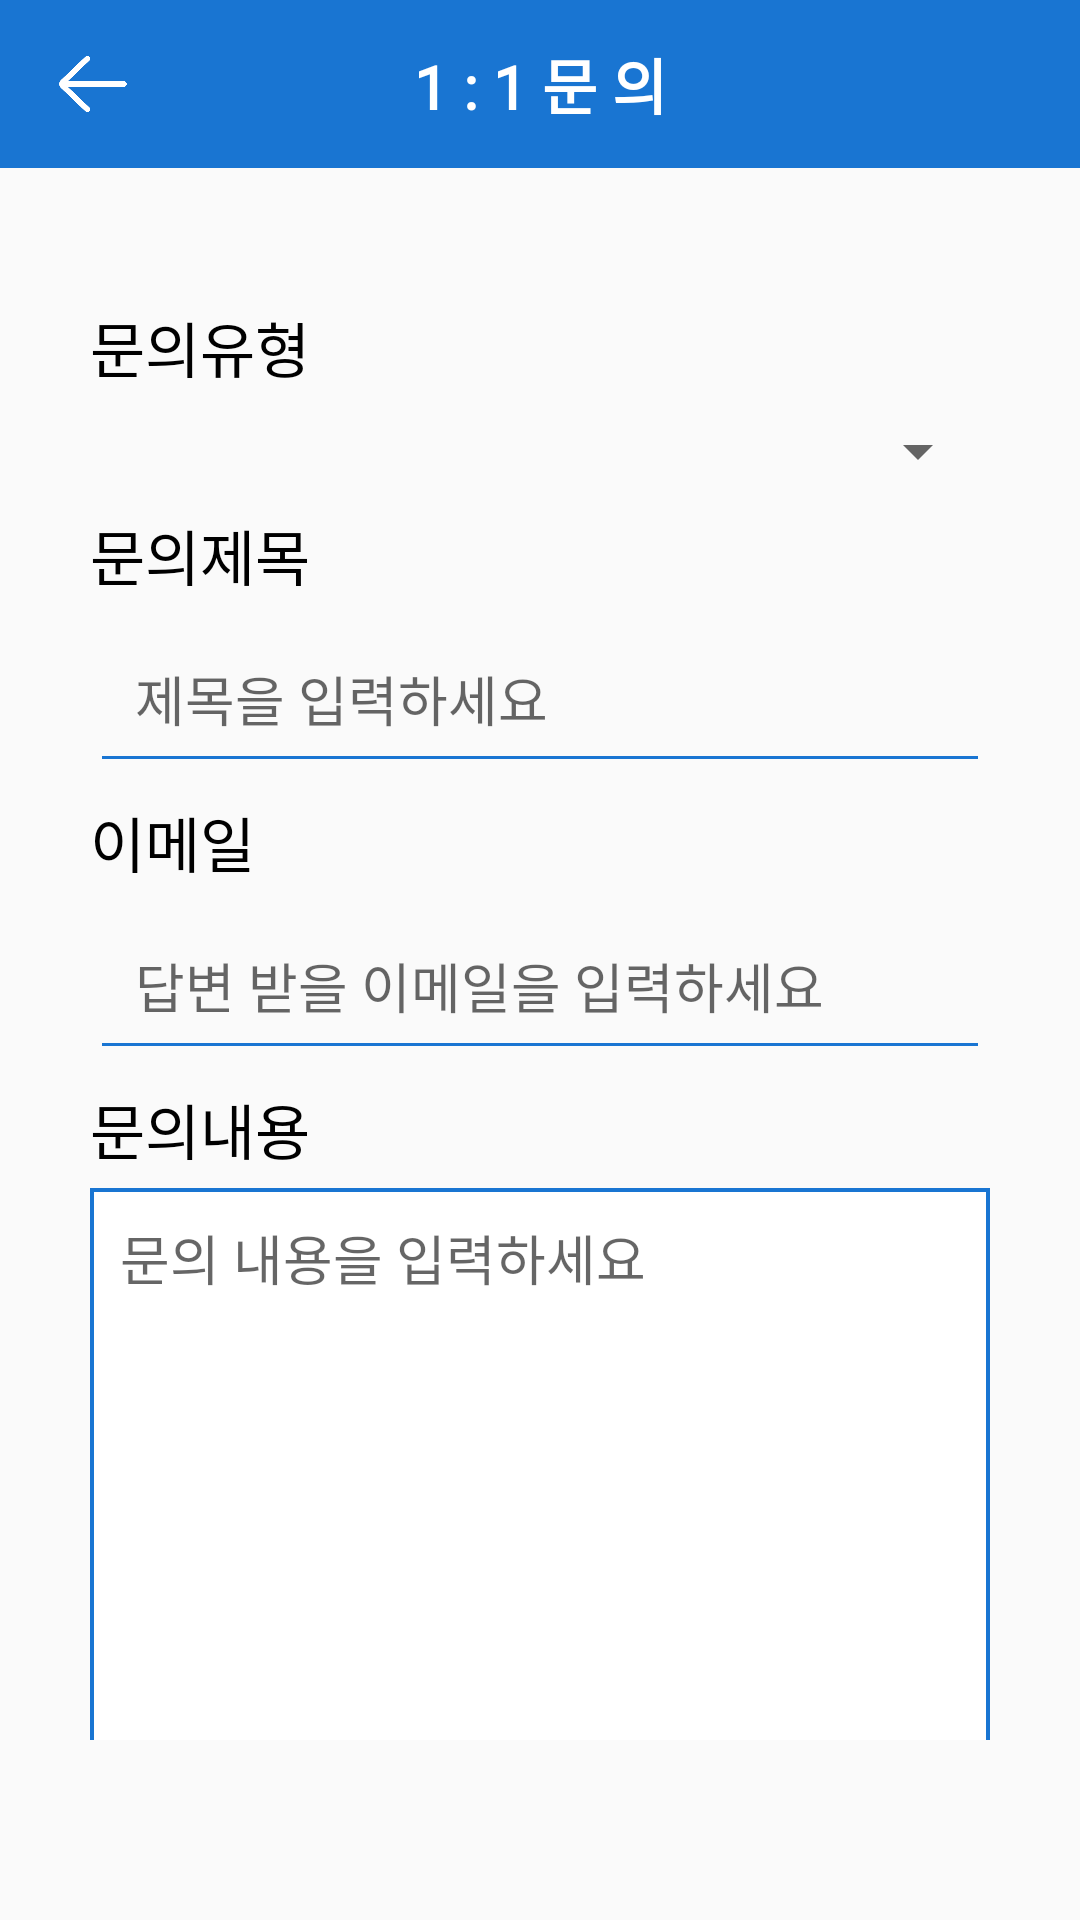

Icon bounding boxes for this 1080*1920 phone screenshot, format (x1, y1, x2, y2):
backbtn: (59, 56, 127, 112)
